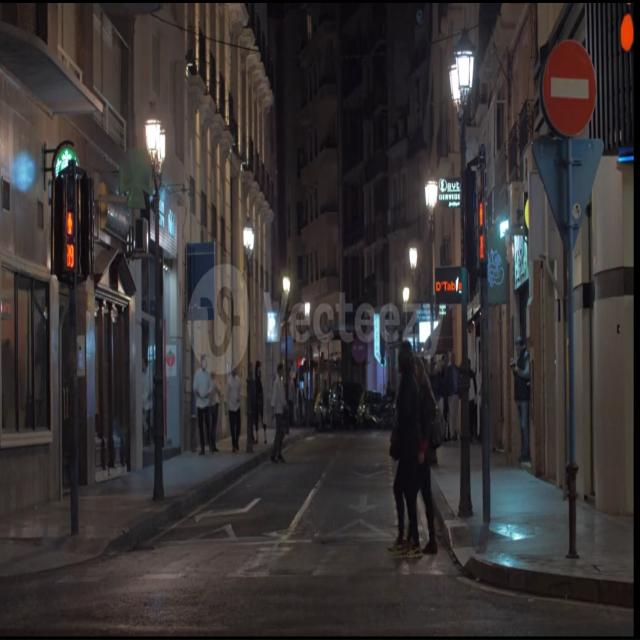pedestrian: (390, 341, 437, 555), (425, 485, 437, 553)
